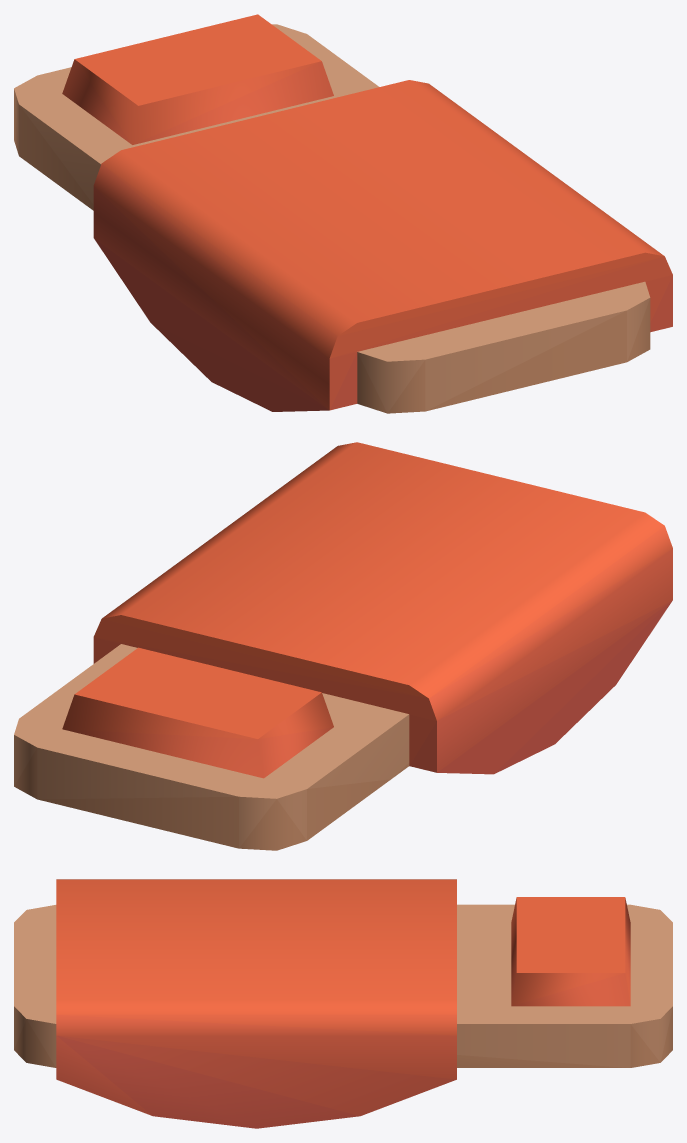
The model's file is bedroll.glb.
The picture shows the model from 3 angles, top to bottom: view 1: azimuth 30°, elevation 25°; view 2: azimuth 150°, elevation 25°; view 3: azimuth 270°, elevation 25°; orthographic projection. The views are drawn at different scales.
Parts seen in each view (by area): view 1: cfa6a41, cdea27b, cf36644, cf66842, cd4936b, cda9b74, ce86147, cef6445, ce15d49, cdd5b4a; view 2: cfa6a41, cdea27b, cf36644, cf66842, cda9b74, cd4936b, cef6445, ce86147, ce15d49, cdd5b4a; view 3: cfa6a41, cdea27b, ce86147, ce15d49, cef6445, cda9b74, cf36644, cf66842, cd4936b.
Part boxes in pixels (x1,y1,x2,y2): cfa6a41: [74, 14, 664, 335]; cdea27b: [14, 24, 650, 361]; cf36644: [62, 59, 672, 358]; cf66842: [75, 60, 660, 358]; cd4936b: [14, 91, 650, 413]; cda9b74: [14, 89, 649, 413]; ce86147: [93, 186, 672, 410]; cef6445: [95, 187, 672, 410]; ce15d49: [94, 238, 328, 409]; cdd5b4a: [151, 323, 328, 411]; cfa6a41: [74, 442, 664, 738]; cdea27b: [14, 644, 408, 798]; cf36644: [63, 549, 671, 778]; cf66842: [62, 526, 672, 739]; cda9b74: [14, 714, 409, 847]; cd4936b: [14, 748, 409, 850]; cef6445: [93, 548, 672, 765]; ce86147: [409, 601, 671, 772]; ce15d49: [437, 600, 672, 774]; cdd5b4a: [494, 601, 671, 773]; cfa6a41: [56, 879, 625, 1014]; cdea27b: [14, 904, 672, 1023]; ce86147: [56, 1035, 456, 1116]; ce15d49: [57, 1036, 359, 1128]; cef6445: [59, 1035, 456, 1079]; cda9b74: [14, 1006, 672, 1067]; cf36644: [56, 898, 630, 1035]; cf66842: [57, 898, 630, 1035]; cd4936b: [14, 1007, 672, 1067].
Size of the model in its own units: 0.3104 by 0.1248 by 0.6076.
